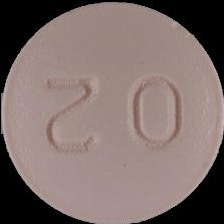0615-7706: (0, 0, 224, 224)
